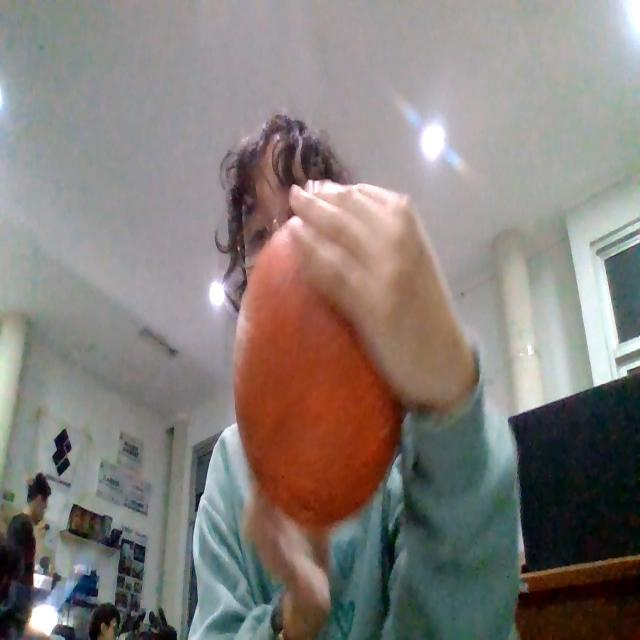ball: (236, 210, 390, 516)
